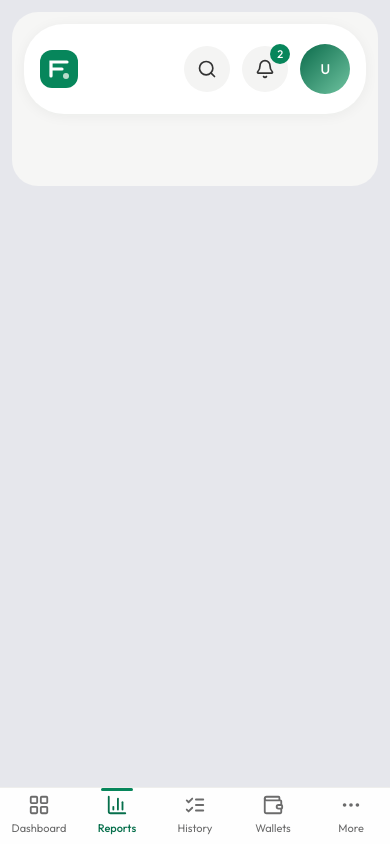
Test: AppShell › opens the More sheet with the remaining sections and sign out
What coordinates should you click on to do the following:
click the button "More"
I would click on:
 (351, 816)
Its box is [312, 788, 389, 843].
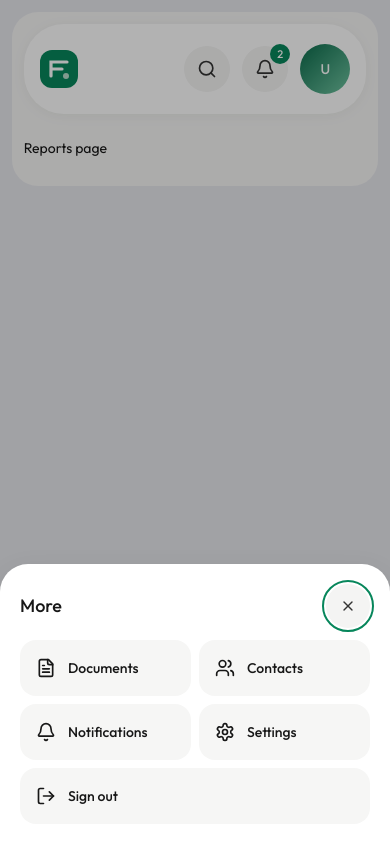
expect the link "Documents" is shown: met, box [20, 640, 191, 696]
expect the link "Contacts" is shown: met, box [199, 640, 370, 696]
expect the link "Notifications" is shown: met, box [20, 704, 191, 760]
